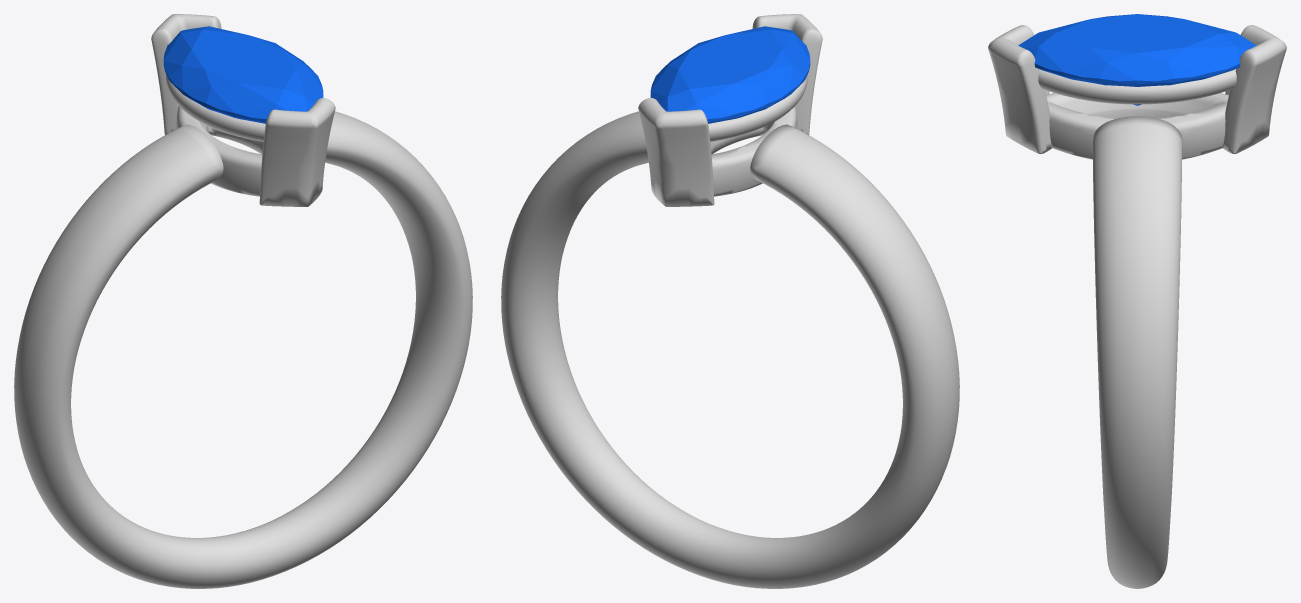
The model's file is bluesapphire-marquise-platinum-protectededges2prongs-taperedband-nosidestones.glb.
3 renders of one model, left to right at view 1: azimuth 30°, elevation 25°; view 2: azimuth 150°, elevation 25°; view 3: azimuth 270°, elevation 25°, orthographic.
Parts seen in each view (by area): view 1: metal.003, stone; view 2: metal.003, stone; view 3: metal.003, stone.
Boxes of the visible parts, x1,y1,x2,y2 form: metal.003: (14,14,472,588); stone: (163,26,323,123); metal.003: (501,14,959,588); stone: (650,26,810,123); metal.003: (988,25,1286,588); stone: (1018,14,1256,105).
Bounding box in the file's own units: 20.48 × 22.93 × 11.69.
